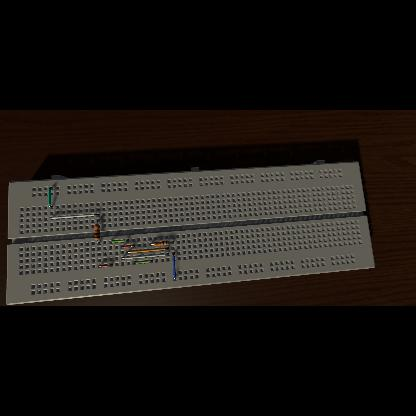breadboard: (6, 160, 376, 306)
resistor: (94, 224, 100, 240), (154, 242, 170, 247)
wire: (50, 214, 100, 220), (121, 253, 168, 259), (128, 247, 168, 253), (172, 252, 176, 280), (48, 188, 53, 208), (134, 260, 152, 264), (110, 240, 128, 243), (122, 245, 134, 249), (100, 264, 112, 268), (96, 221, 100, 224), (98, 240, 100, 244), (170, 242, 174, 243), (151, 244, 153, 246)
